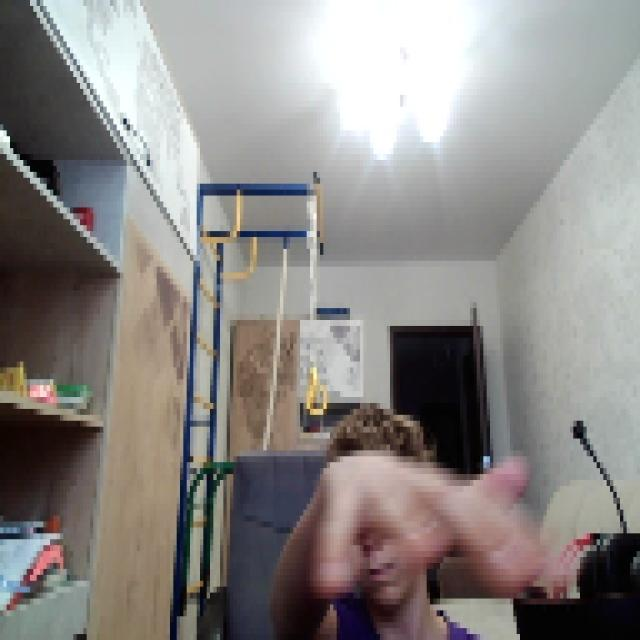hand: (263, 438, 537, 598)
